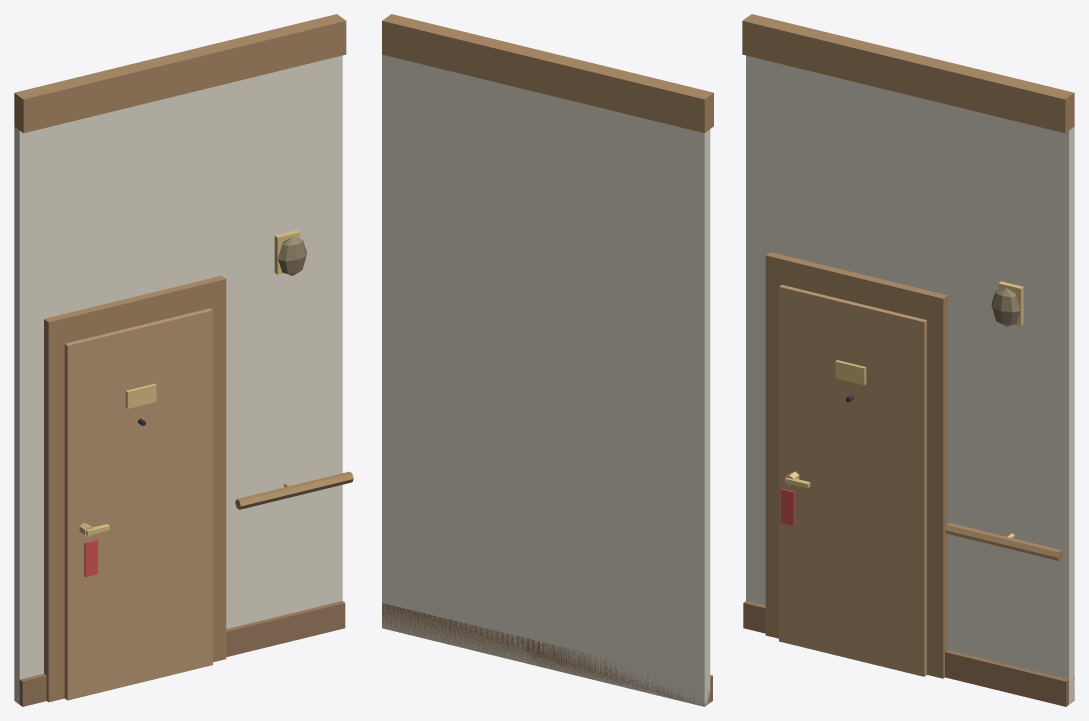
Rendered from CR_PuertaCamarote_B.fbx.
The picture shows the model from 3 angles, left to right: view 1: azimuth 30°, elevation 25°; view 2: azimuth 150°, elevation 25°; view 3: azimuth 330°, elevation 25°; orthographic projection.
Visible parts, largest first — view 1: CR_PuertaCamarote_B; view 2: CR_PuertaCamarote_B; view 3: CR_PuertaCamarote_B.
Part boxes in pixels (left/top/right/bottom): CR_PuertaCamarote_B: left=14, top=14, right=353, bottom=706; CR_PuertaCamarote_B: left=382, top=14, right=713, bottom=706; CR_PuertaCamarote_B: left=742, top=14, right=1074, bottom=706.
Bounding box in the file's own units: 2 × 3.6 × 0.225.
